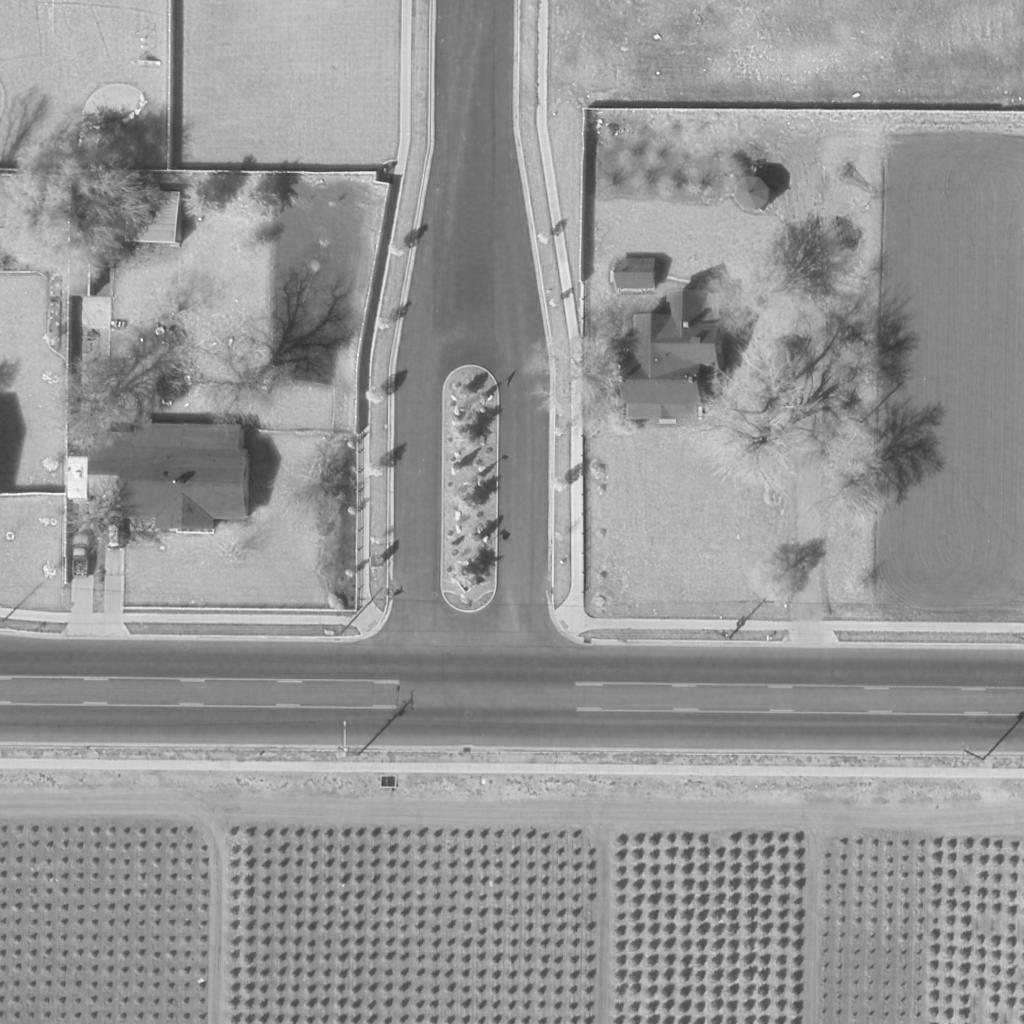vehicle: (65, 455, 89, 503), (71, 534, 91, 580), (105, 508, 125, 552)
